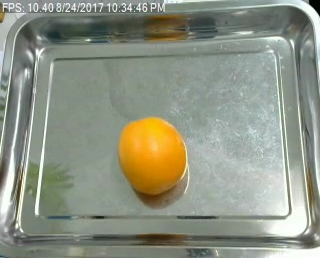Orange: (118, 116, 190, 195)
